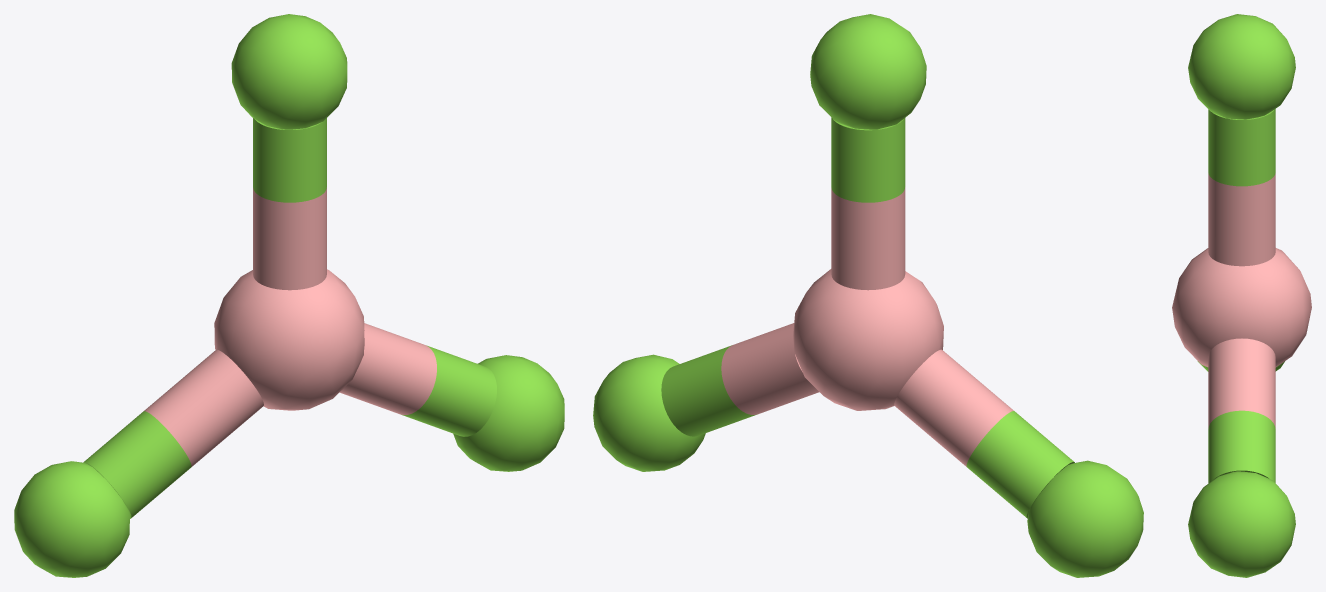
3 views of the same model, side by side, from view 1: azimuth 30°, elevation 25°; view 2: azimuth 150°, elevation 25°; view 3: azimuth 270°, elevation 25° (orthographic). The views are drawn at different scales.
Visible parts, largest first — view 1: subnode_0, subnode_1, subnode_3, subnode_2, subnode_8, subnode_4, subnode_9, subnode_6, subnode_5, subnode_7; view 2: subnode_0, subnode_1, subnode_3, subnode_2, subnode_8, subnode_4, subnode_9, subnode_6, subnode_5, subnode_7; view 3: subnode_0, subnode_2, subnode_1, subnode_4, subnode_6, subnode_5, subnode_7.
Boxes of the visible parts, x1,y1,x2,y2 form: subnode_0: (214, 269, 364, 410); subnode_1: (231, 14, 347, 129); subnode_3: (14, 461, 129, 577); subnode_2: (453, 355, 564, 471); subnode_8: (144, 349, 263, 466); subnode_4: (253, 187, 326, 290); subnode_9: (83, 411, 191, 518); subnode_6: (339, 323, 436, 415); subnode_5: (253, 118, 326, 202); subnode_7: (401, 345, 496, 436); subnode_0: (793, 269, 943, 410); subnode_1: (810, 14, 926, 129); subnode_3: (1027, 460, 1143, 577); subnode_2: (593, 354, 705, 471); subnode_8: (894, 349, 1013, 466); subnode_4: (831, 187, 905, 290); subnode_9: (966, 411, 1074, 518); subnode_6: (721, 323, 819, 414); subnode_5: (831, 117, 905, 202); subnode_7: (661, 345, 757, 436); subnode_0: (1172, 248, 1311, 367); subnode_2: (1188, 471, 1295, 577); subnode_1: (1188, 14, 1295, 119); subnode_4: (1208, 173, 1275, 266); subnode_6: (1208, 338, 1275, 428); subnode_5: (1208, 109, 1275, 186); subnode_7: (1208, 410, 1275, 483).
Bounding box in the file's own units: 3.35 × 2.99 × 0.83.
